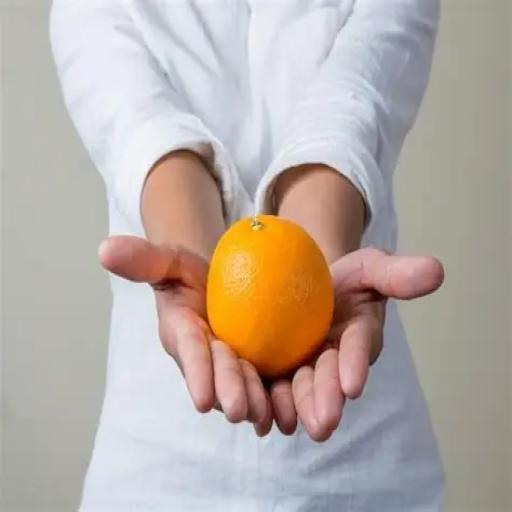orange: (207, 215, 333, 379)
